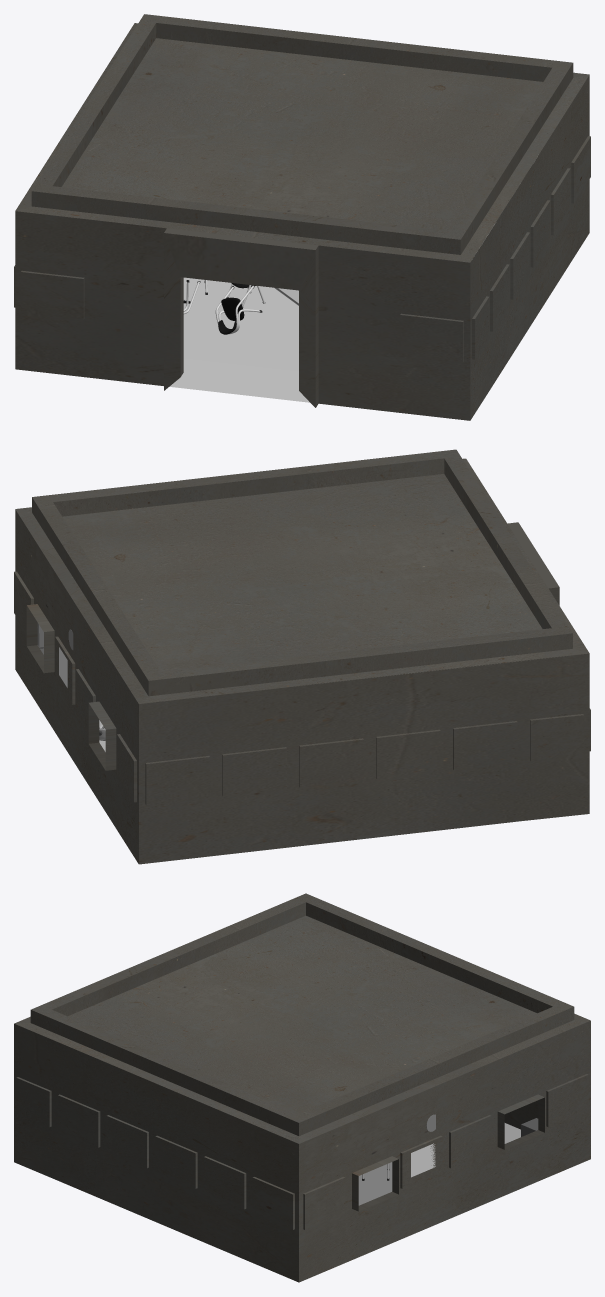
File: Réunion.fbx
3 views of the same model, one above another, from view 1: azimuth 30°, elevation 25°; view 2: azimuth 150°, elevation 25°; view 3: azimuth 270°, elevation 25° (orthographic). The views are drawn at different scales.
Parts seen in each view (by area): view 1: Cube.029, 1.008; view 2: Cube.029; view 3: Cube.029, Cube.11647.
Part boxes in pixels (<box>): Cube.029: <box>14,14,590,420</box>; 1.008: <box>215,285,262,334</box>; Cube.029: <box>14,449,590,864</box>; Cube.029: <box>14,893,590,1282</box>; Cube.11647: <box>411,1143,435,1177</box>.
Size of the model in its own units: 1725 by 509 by 1724.
